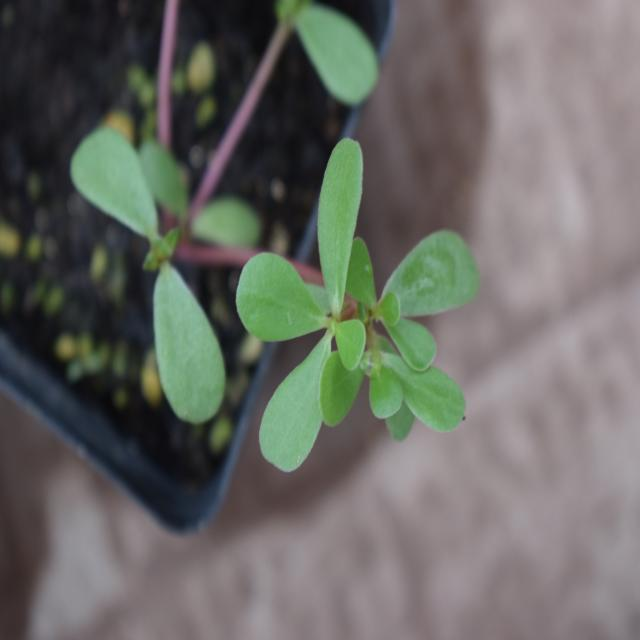purslane: (74, 111, 476, 474)
